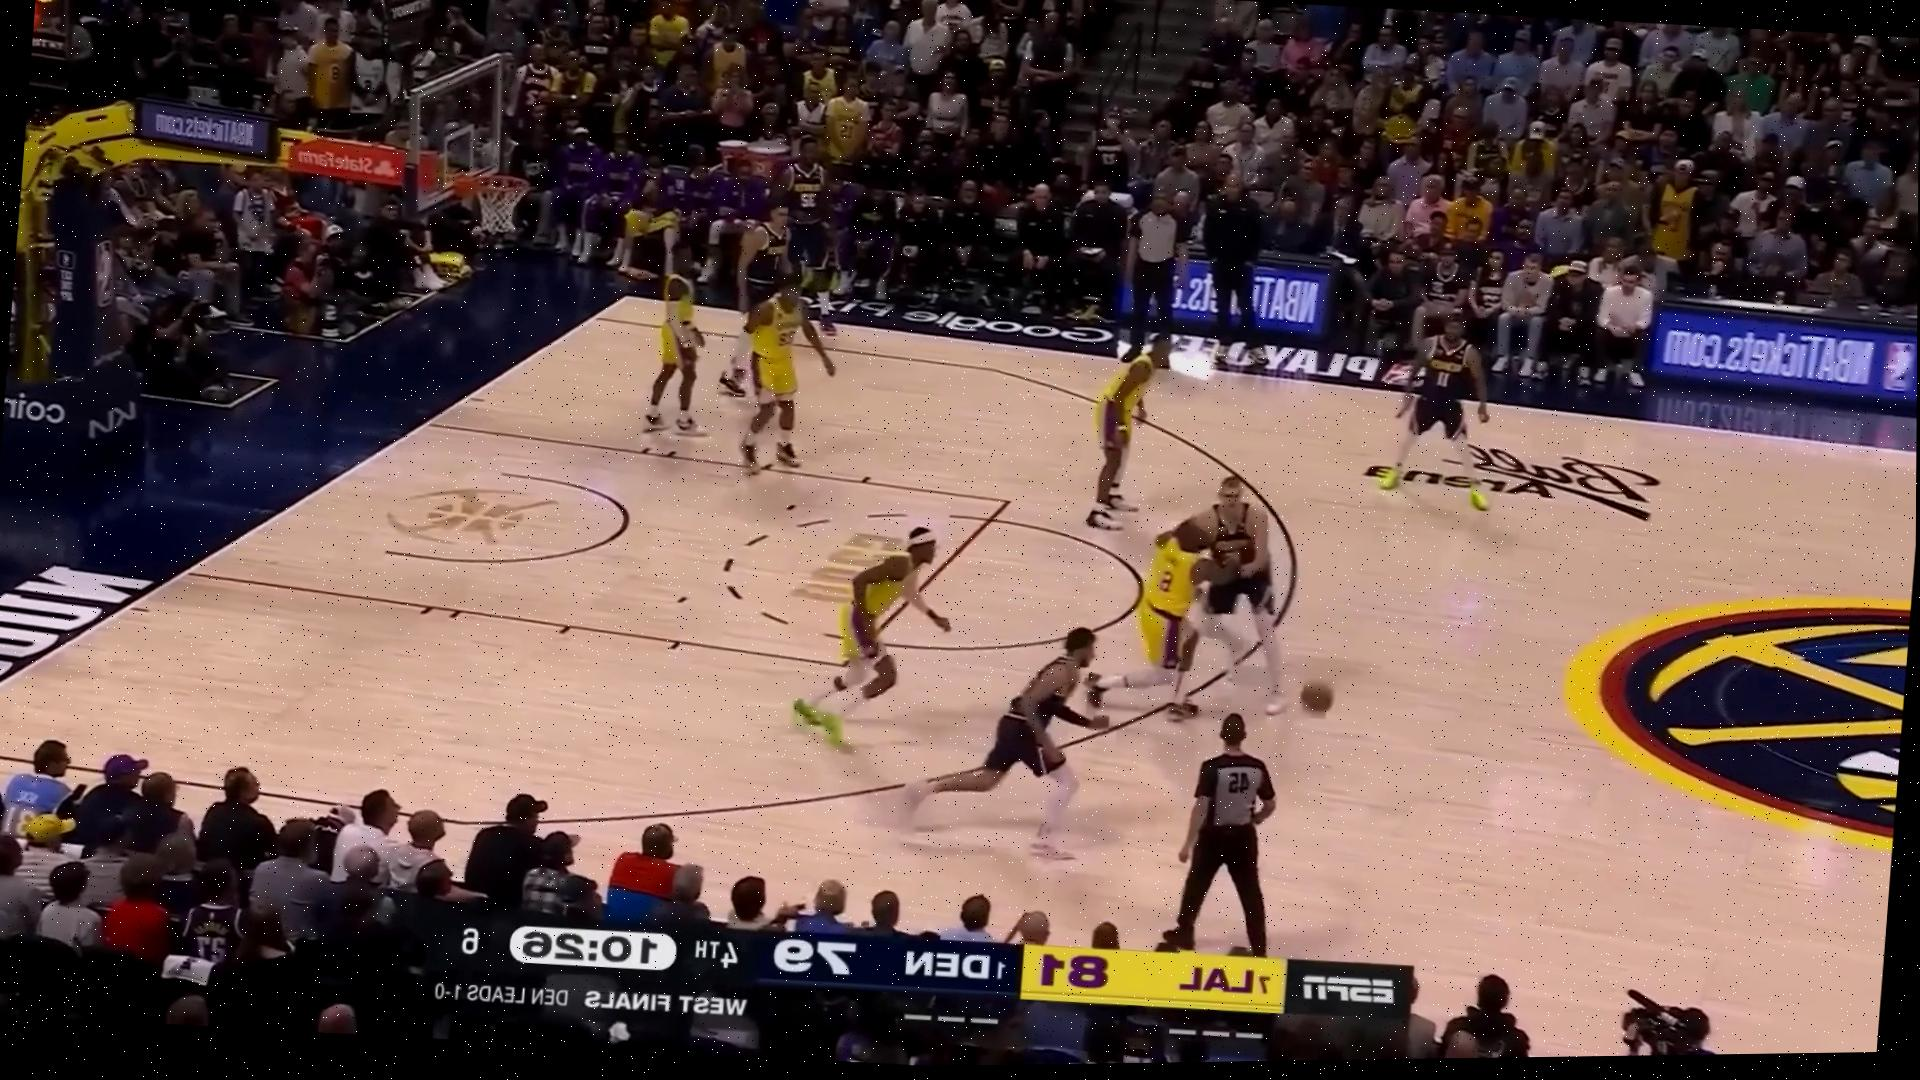foul: (1091, 451, 1313, 738)
